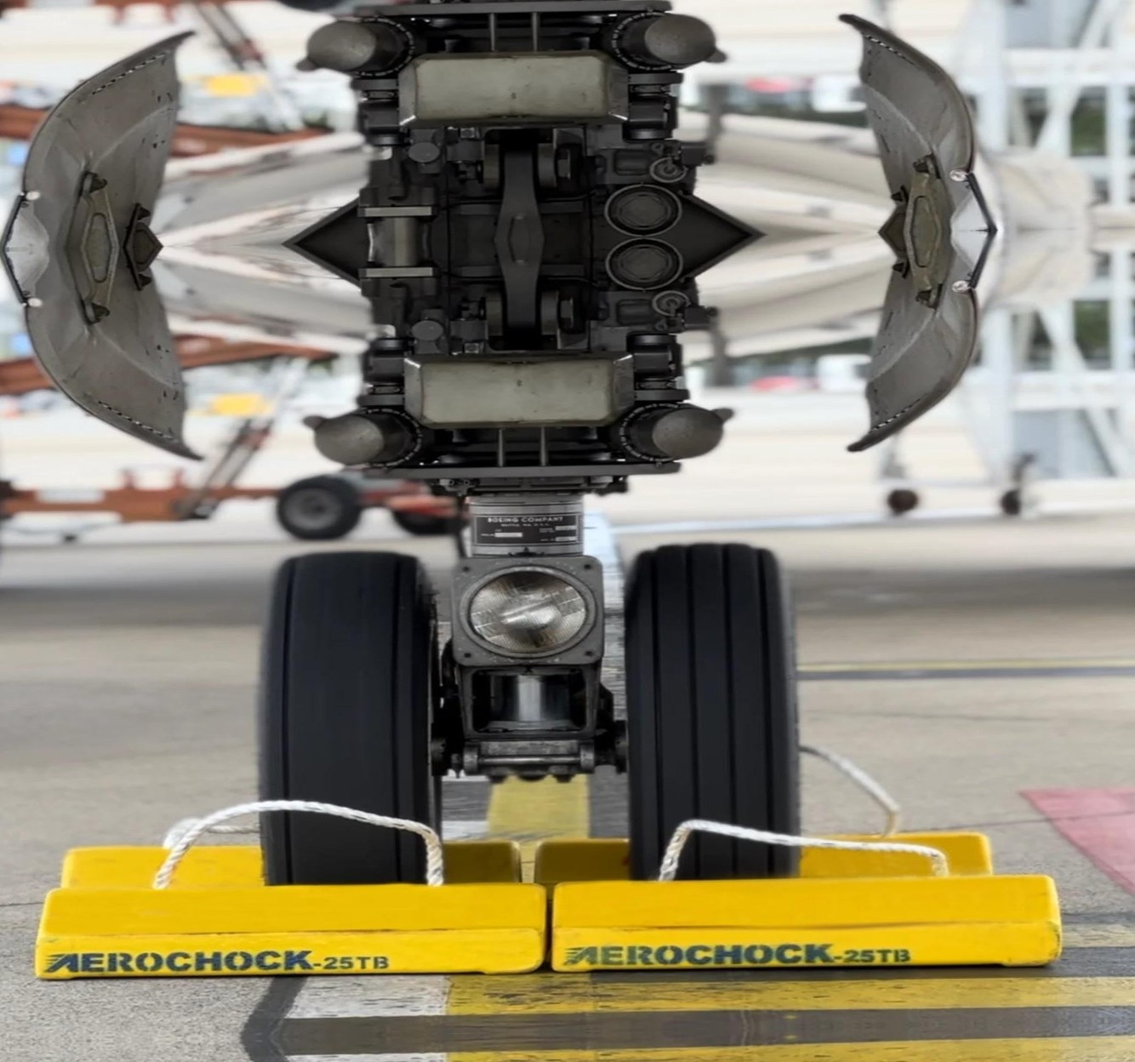chock: (33, 878, 549, 985), (550, 871, 1067, 976), (55, 835, 529, 894), (533, 830, 1002, 886)
wheel: (258, 547, 443, 884), (619, 540, 796, 883), (275, 476, 358, 538), (393, 504, 456, 535)
